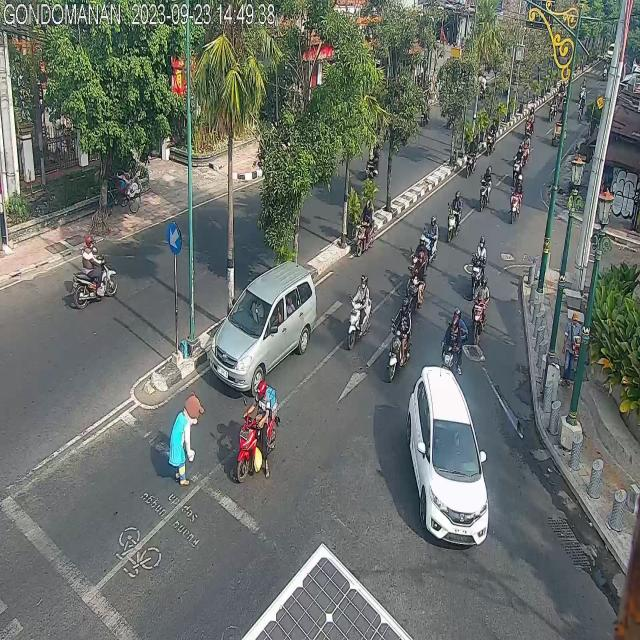car: (405, 356, 491, 553), (209, 258, 316, 396)
motorcycle: (238, 372, 277, 486), (71, 233, 118, 300), (384, 290, 412, 382), (438, 300, 464, 378), (347, 274, 372, 355), (421, 203, 440, 275), (354, 193, 374, 258), (468, 234, 488, 297), (472, 268, 489, 338), (405, 246, 423, 310), (507, 175, 526, 228), (446, 191, 460, 243), (479, 160, 491, 212)
